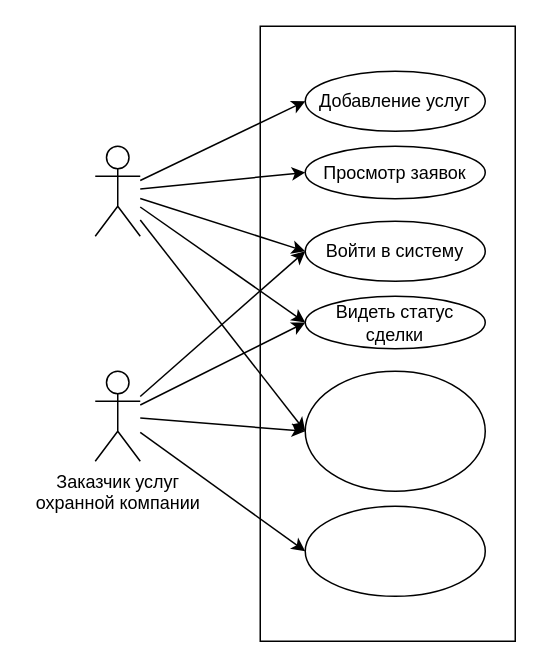
The diagram is 542 pixels wide and 668 high, and some of its shapes have lost their labels. Here are the shapes that lost their labels. From the top down, the centre of each, then its label:
At pixel 117 190: "Менеджеры охранной организации".
At pixel 394 430: "Возможность связаться в отдельном мессенджере".
At pixel 394 550: "Просмотр доступных предложений".
